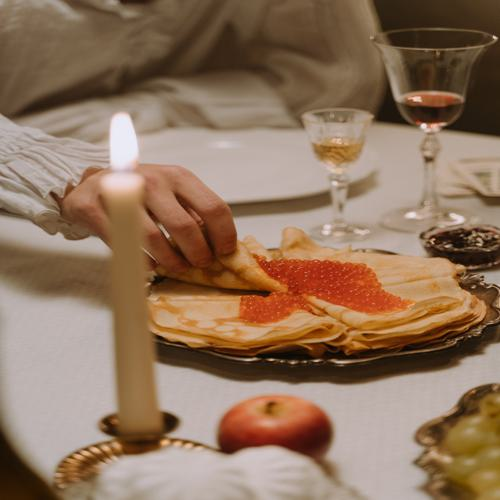copa: (372, 24, 498, 229), (300, 105, 378, 239)
